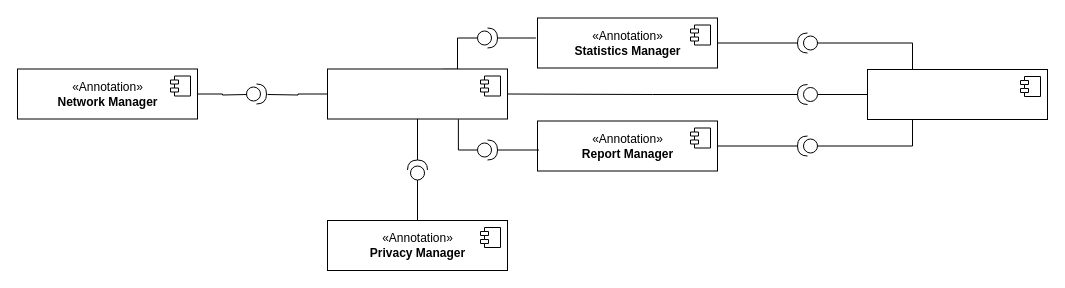
Some shapes in this 1065 by 288 pixel diagram are drawn without their labels. Each missing label, with the centre of its shape:
«Annotation» Authentication Manager: point 417,93
«Annotation» Database Manager: point 957,94
